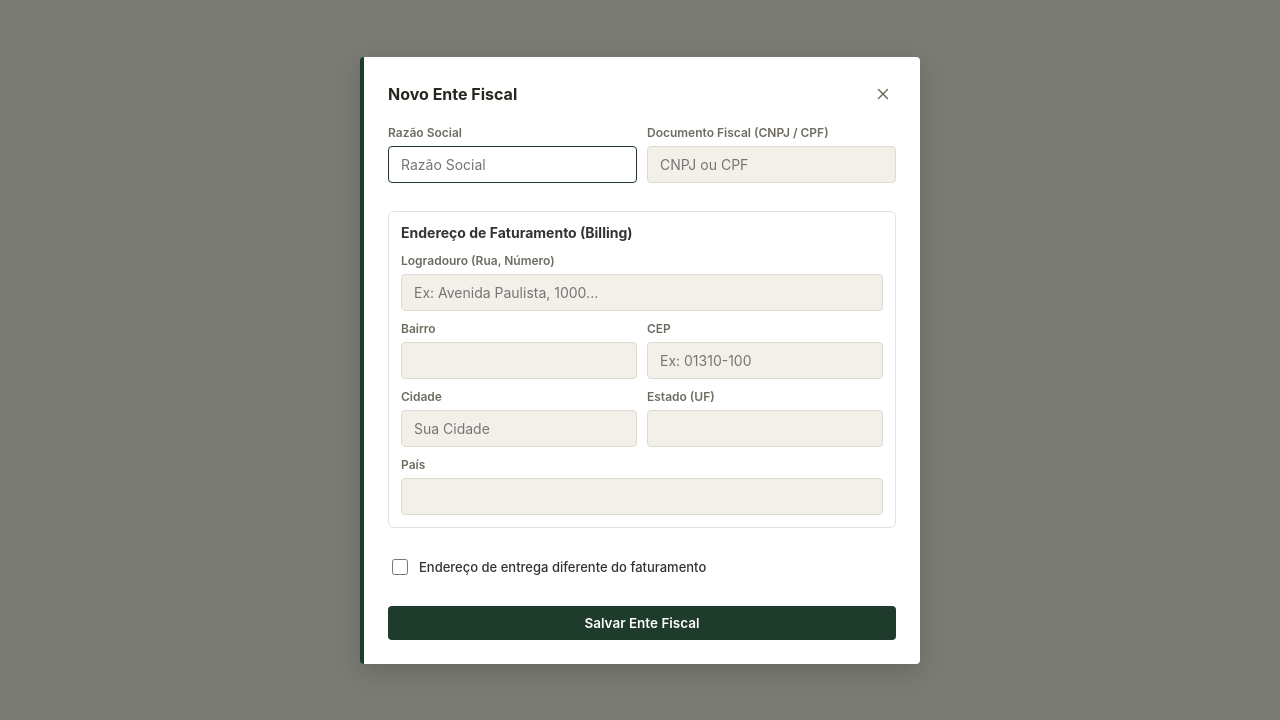
Test: FiscalFormModal › 6. Documento inválido exibe mensagem e bloqueia API
The image size is (1280, 720).
Type "Empresa Teste" into the field with placeholder "Razão Social".
click(512, 164); type("Empresa Teste")  # box [388,146,637,182]
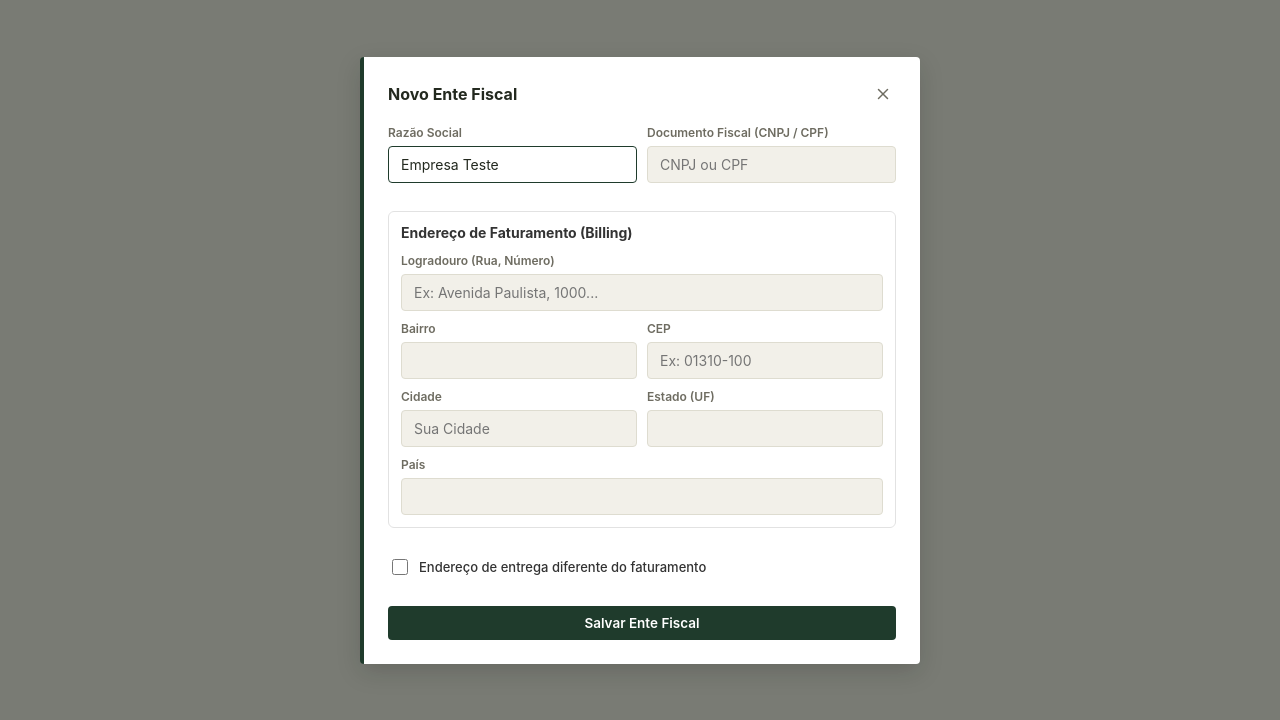
Type "11111111111" into the field with placeholder "CNPJ ou CPF".
click(772, 164); type("11111111111")  # box [647,146,896,182]
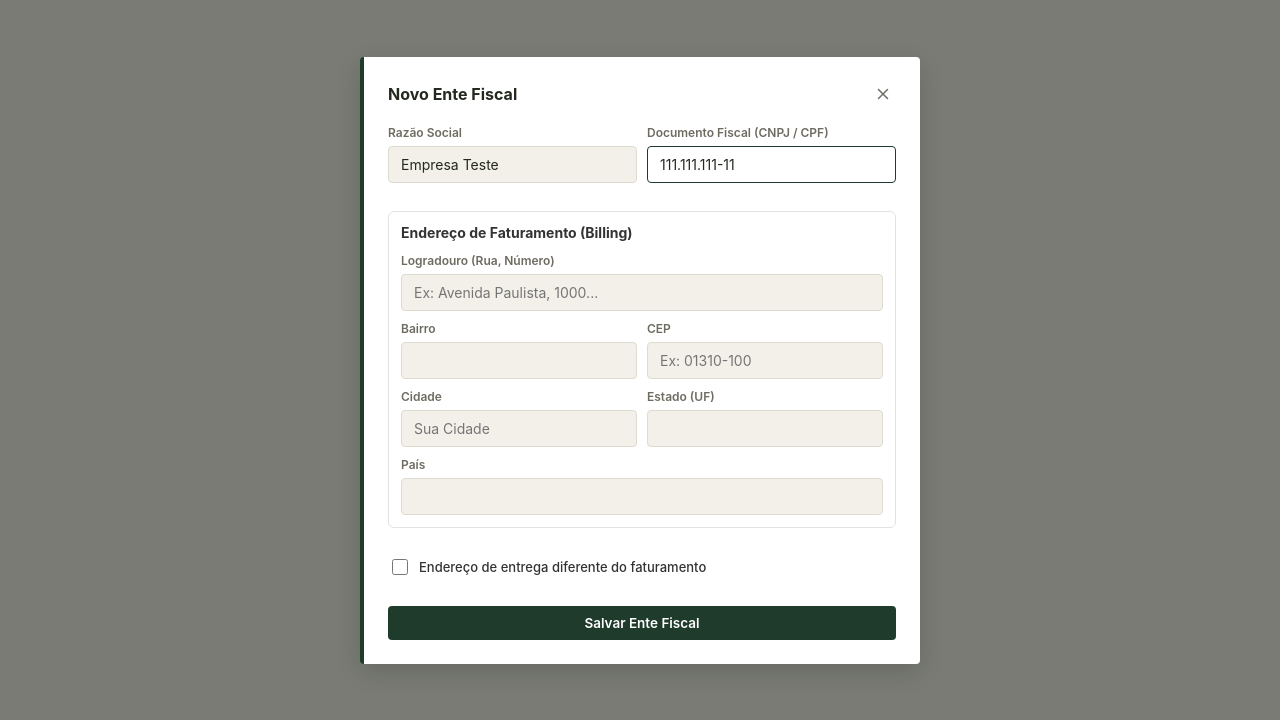
Submit the form, box [388,124,896,640]
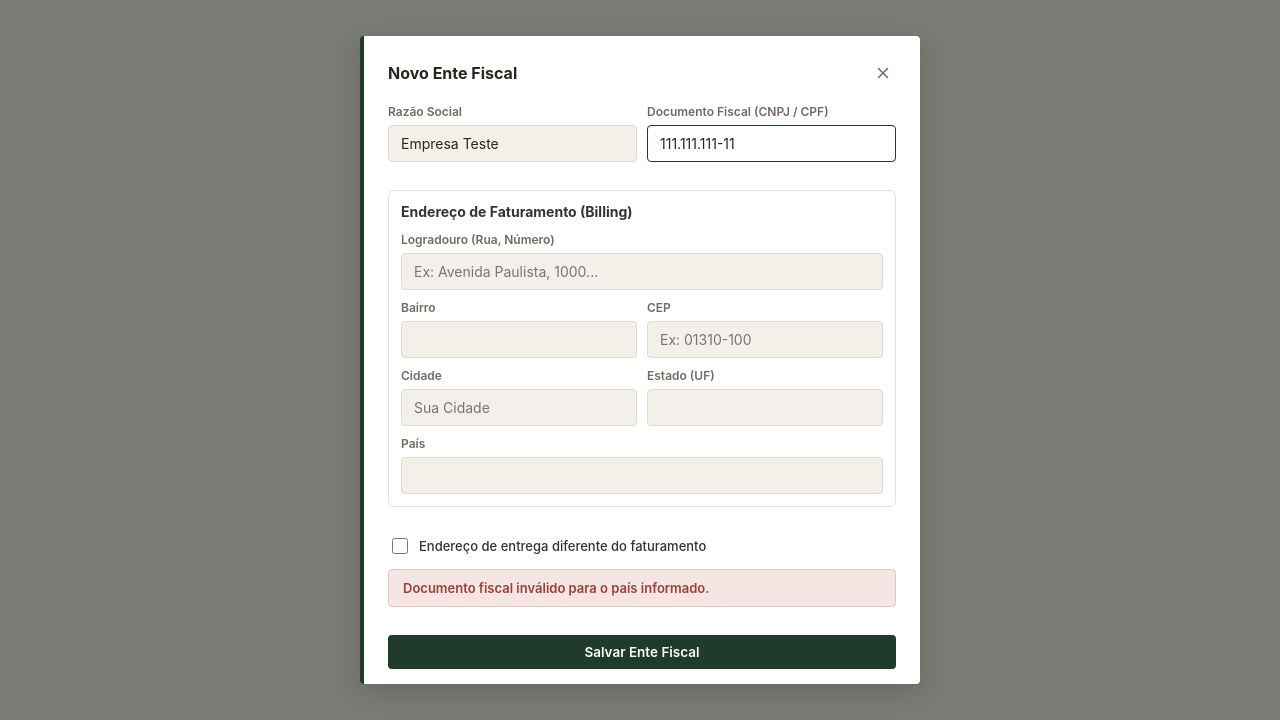
Expected: the text "Documento fiscal inválido para o país informado." is shown, [388,569,896,607]
